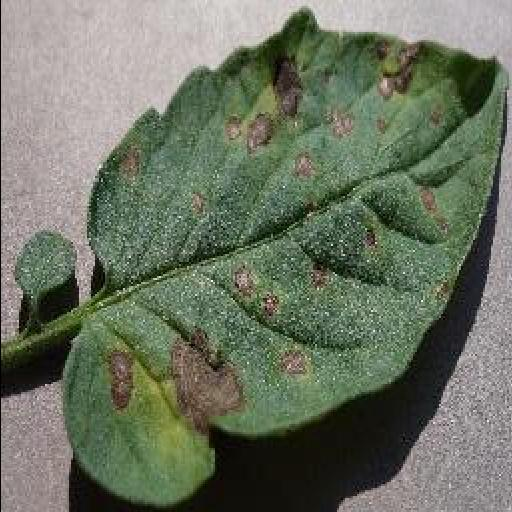disease_tomato: (64, 12, 510, 508)
